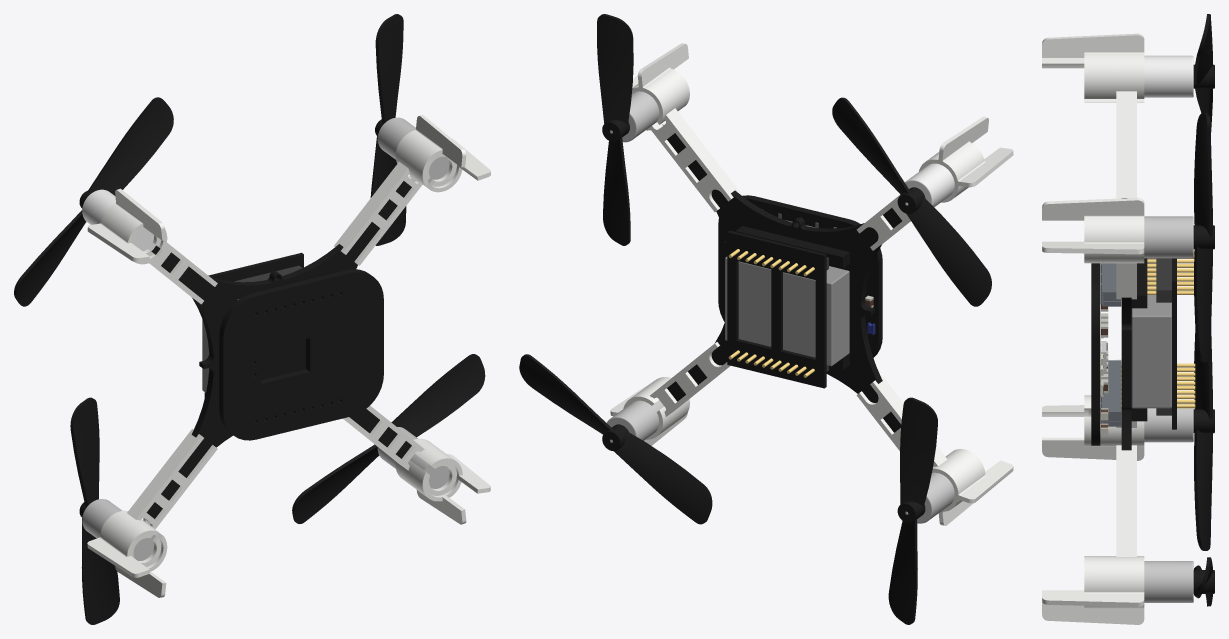
File: Crazyflie_assembly v2.fbx
The picture shows the model from 3 angles, left to right: view 1: azimuth 30°, elevation 25°; view 2: azimuth 150°, elevation 25°; view 3: azimuth 270°, elevation 25°; orthographic projection. The views are drawn at different scales.
Visible parts, largest first — view 1: Body1 (×15); view 2: Body1 (×16); view 3: Body1 (×20).
Boxes of the visible parts, x1,y1,x2,y2 form: Body1 (×15): [14, 14, 490, 624]; Body1 (×16): [519, 14, 1013, 624]; Body1 (×20): [1042, 14, 1214, 624].
Bounding box in the file's own units: 101 × 110 × 28.75.
